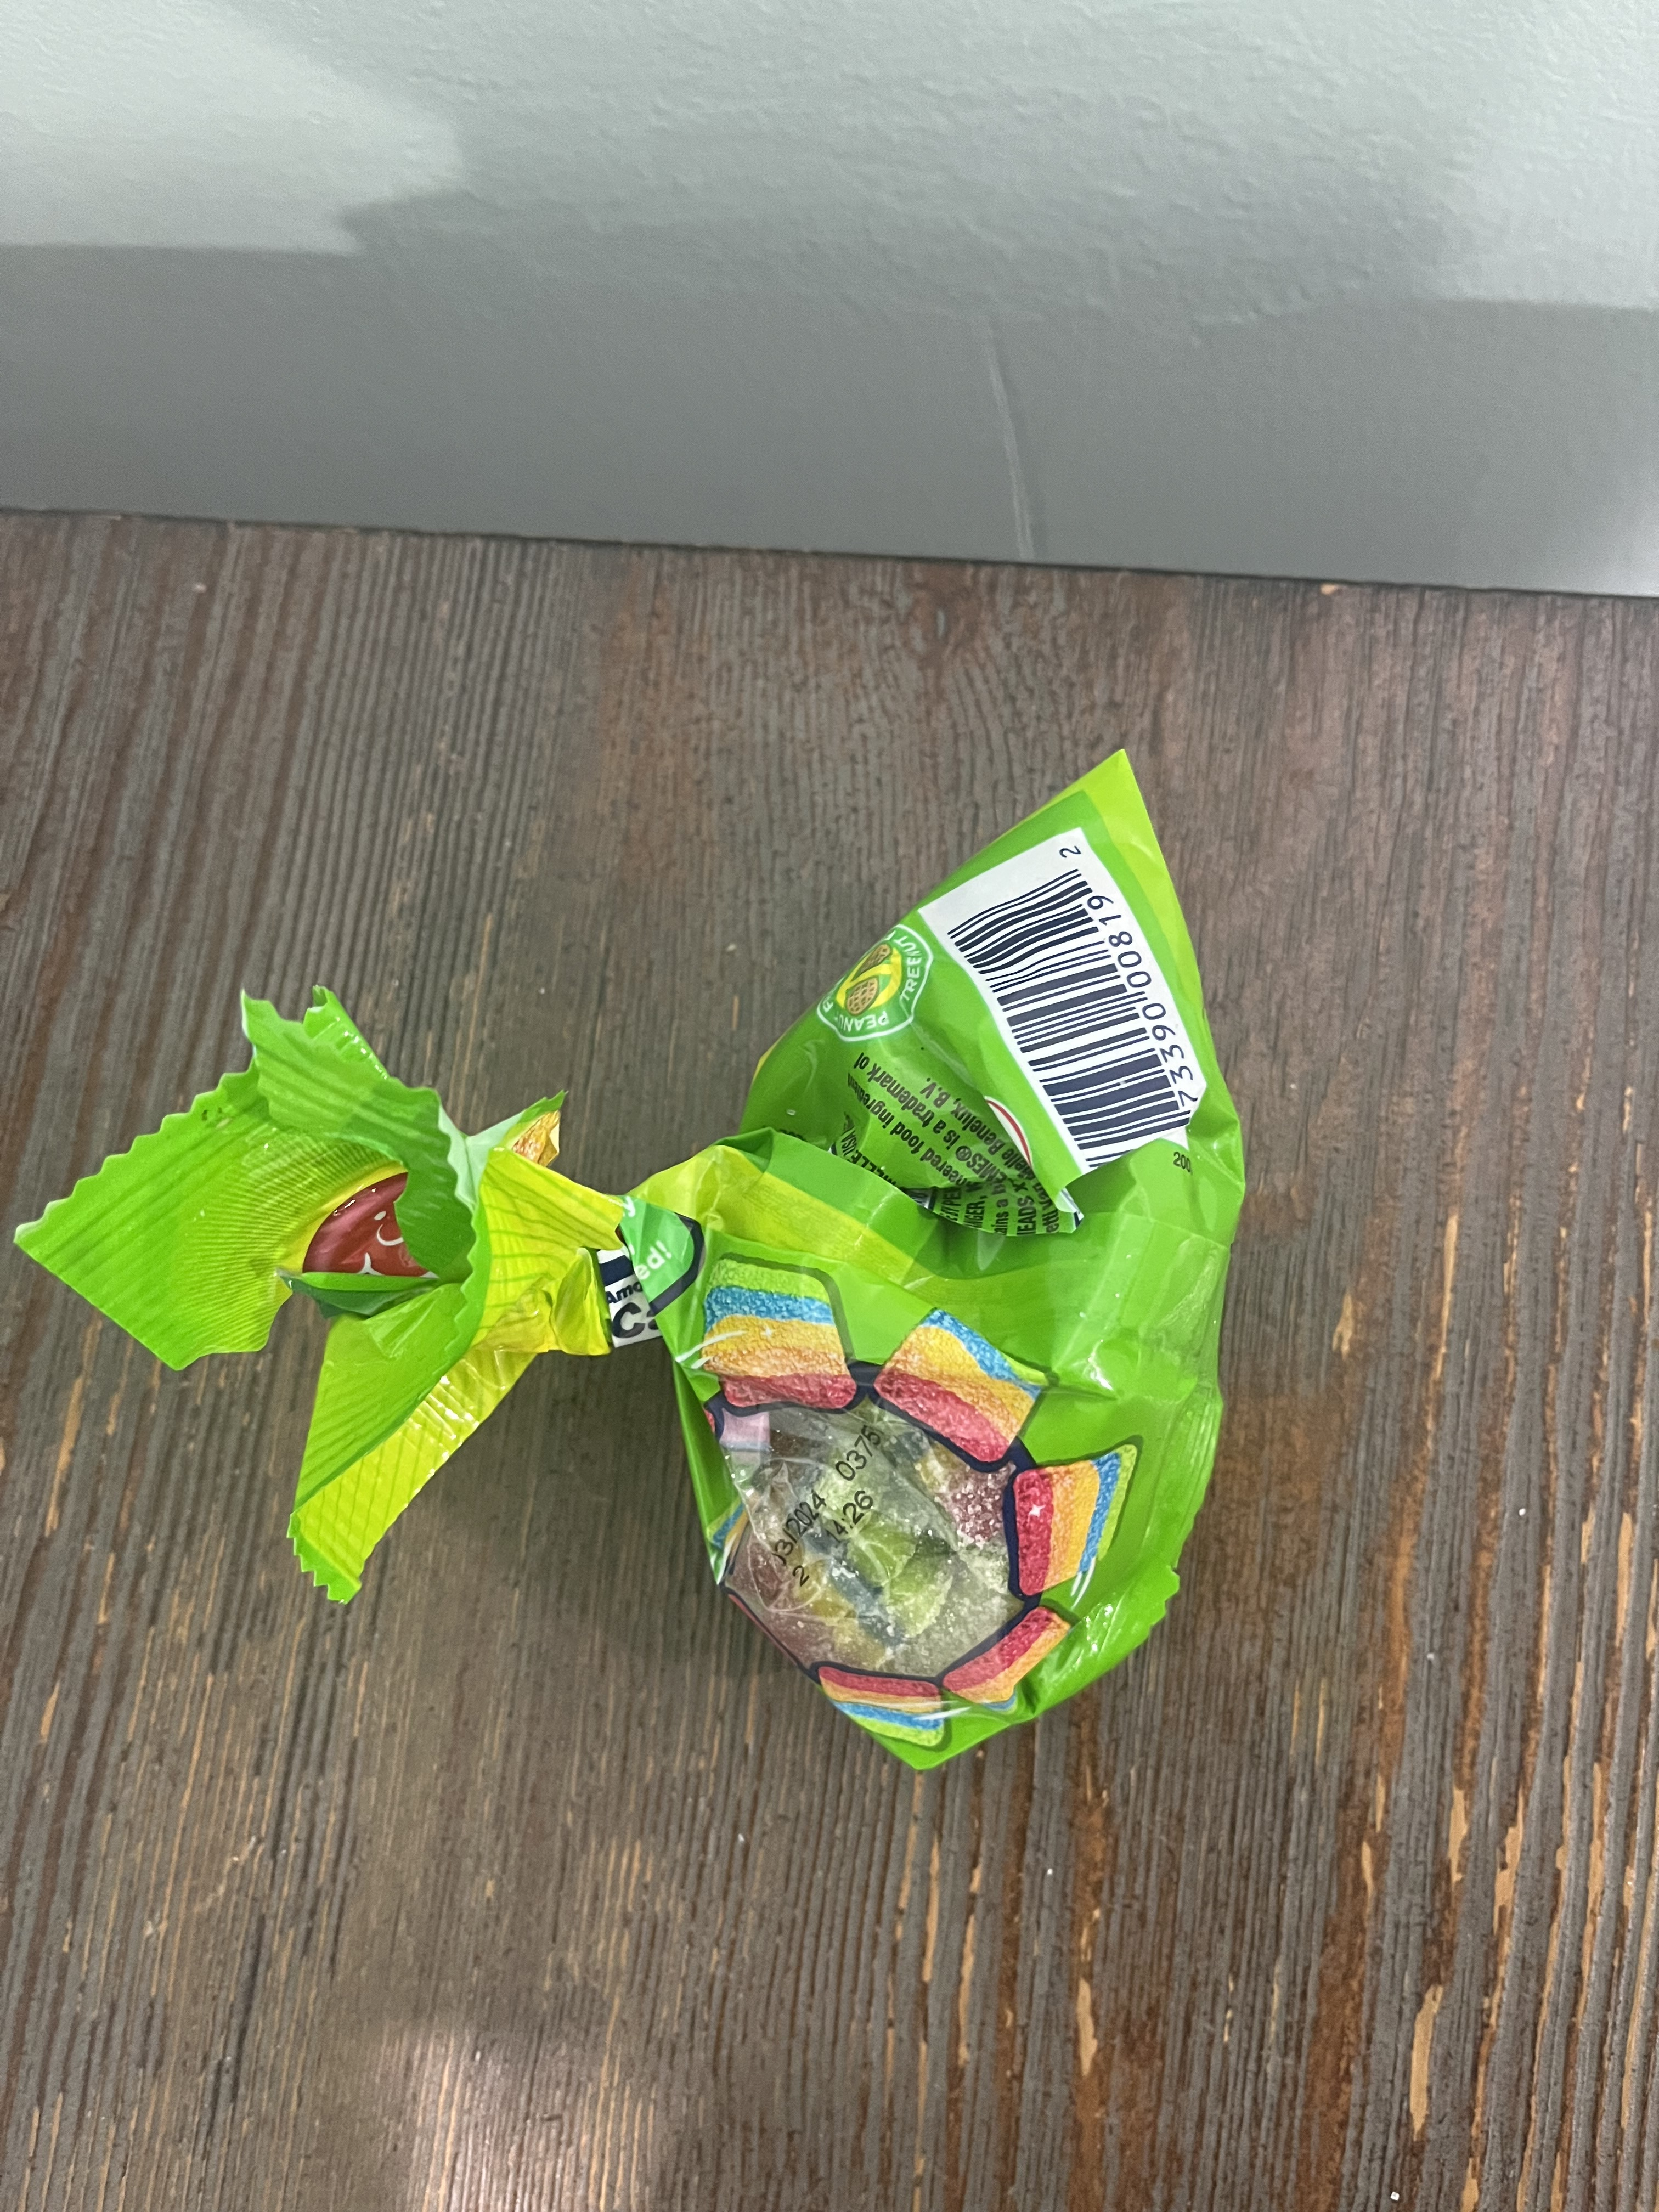wrapper: (17, 752, 1246, 1771)
